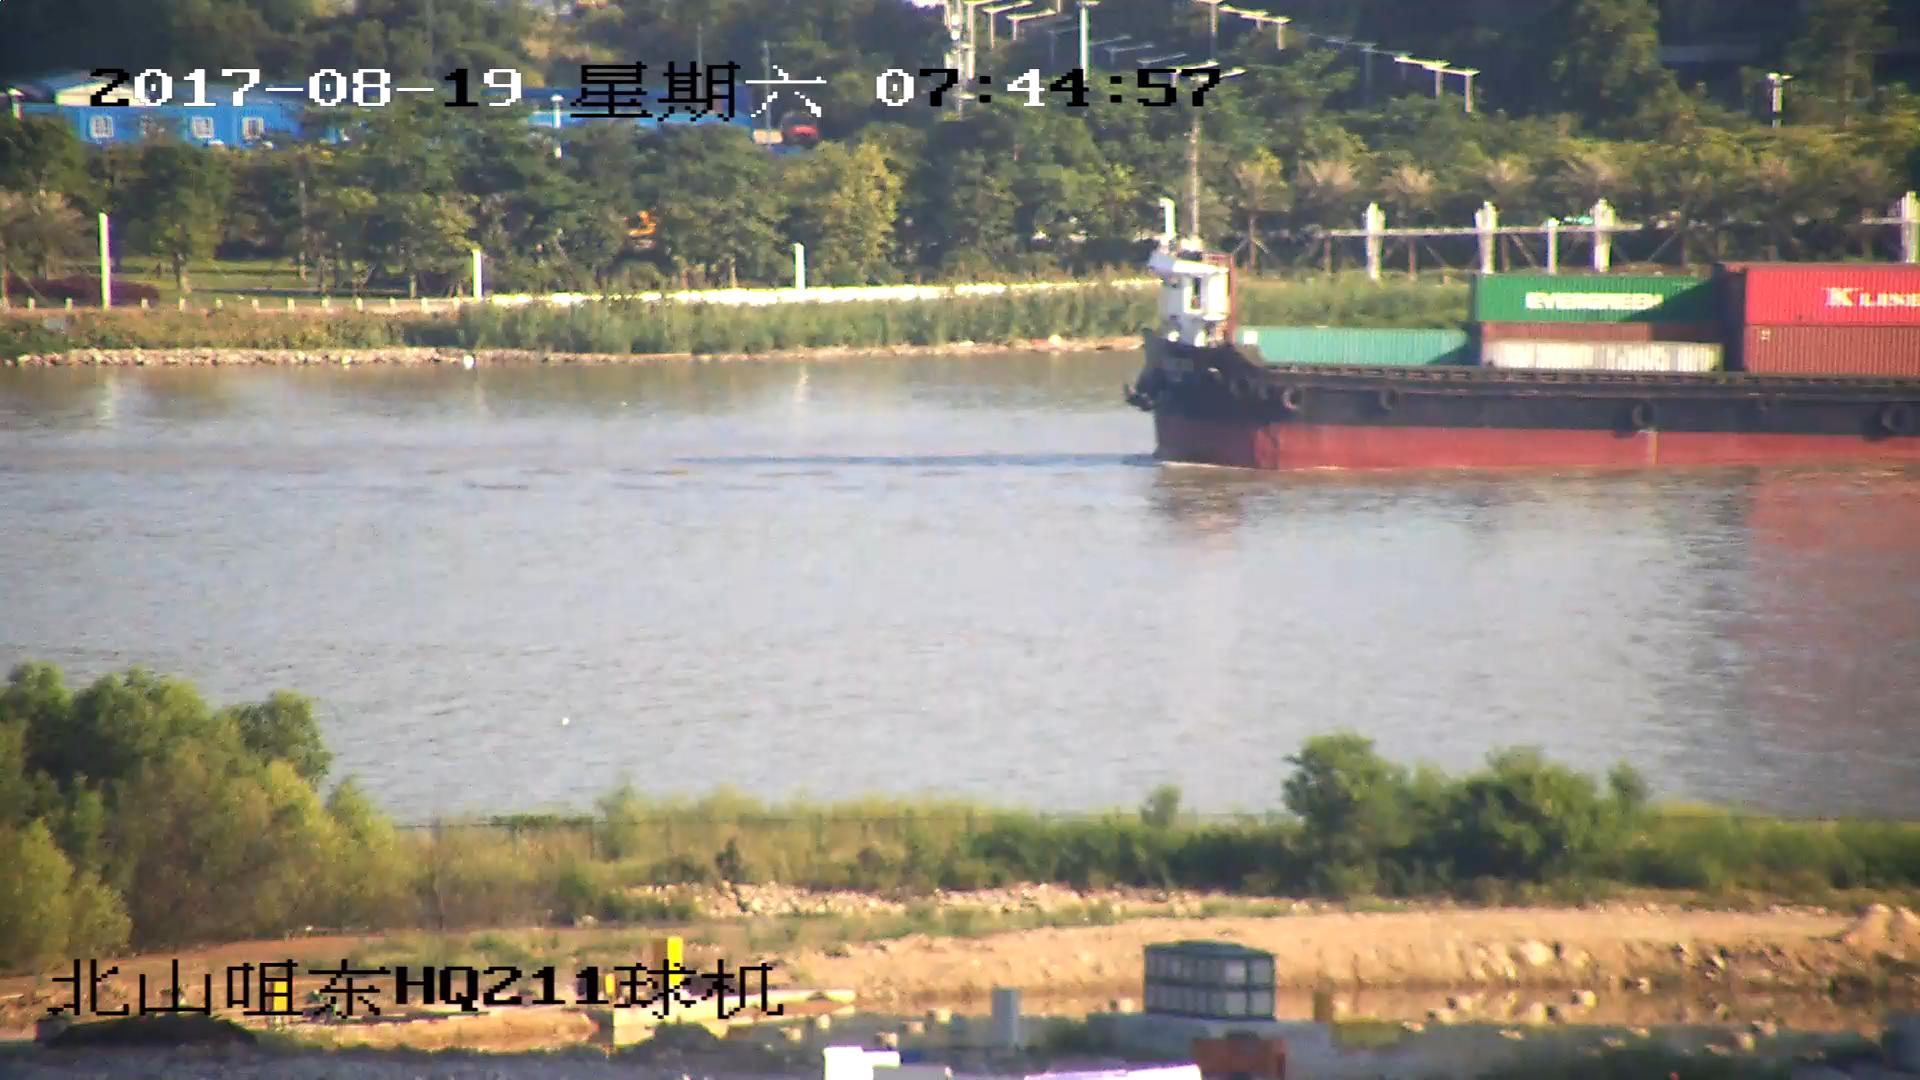container ship: (1122, 131, 1920, 473)
